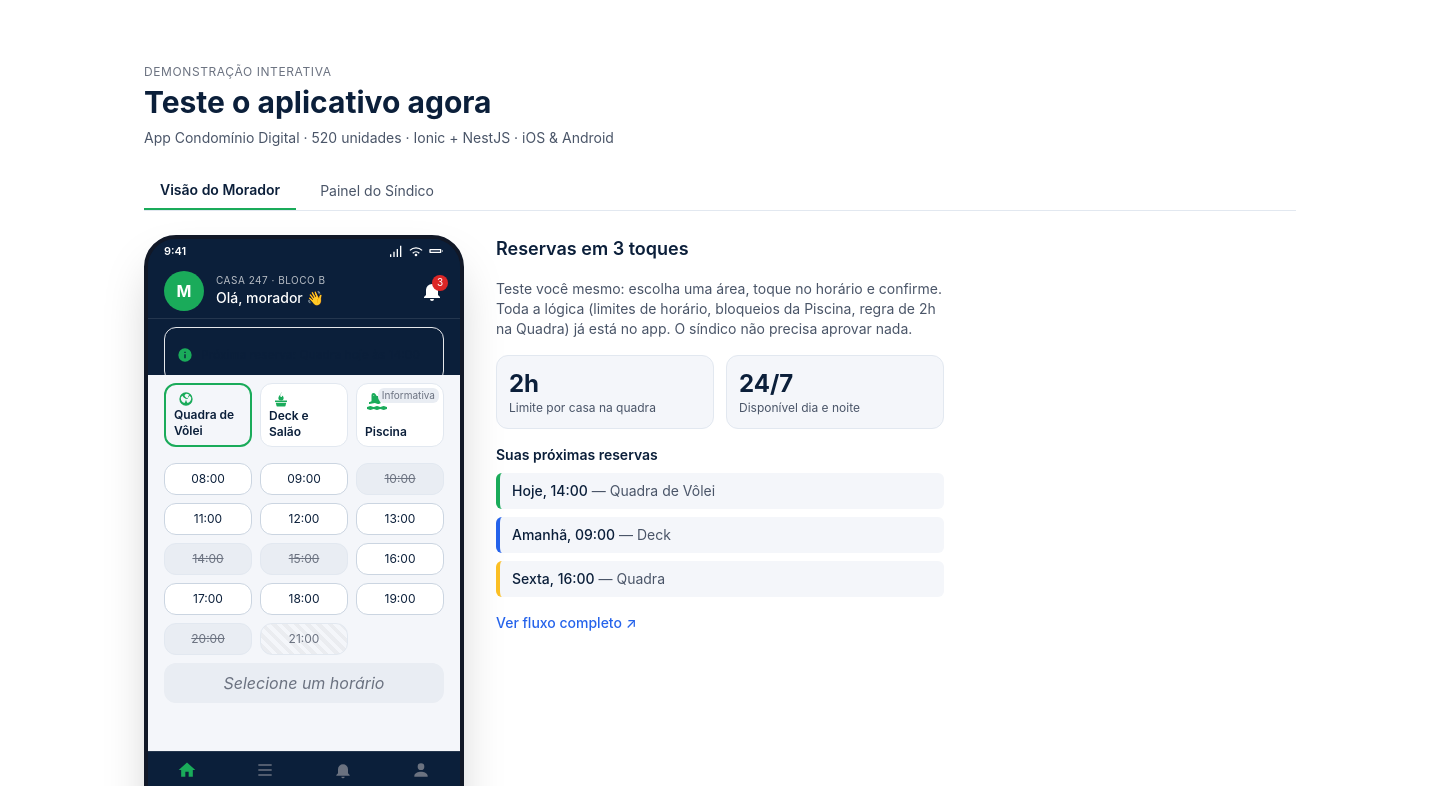
it: DemoTabs — interação › clicar na tab "Painel do Síndico" muda para o painel do Síndico
Click the tab "Painel do Síndico" at [377, 191], box [304,172,450,210]
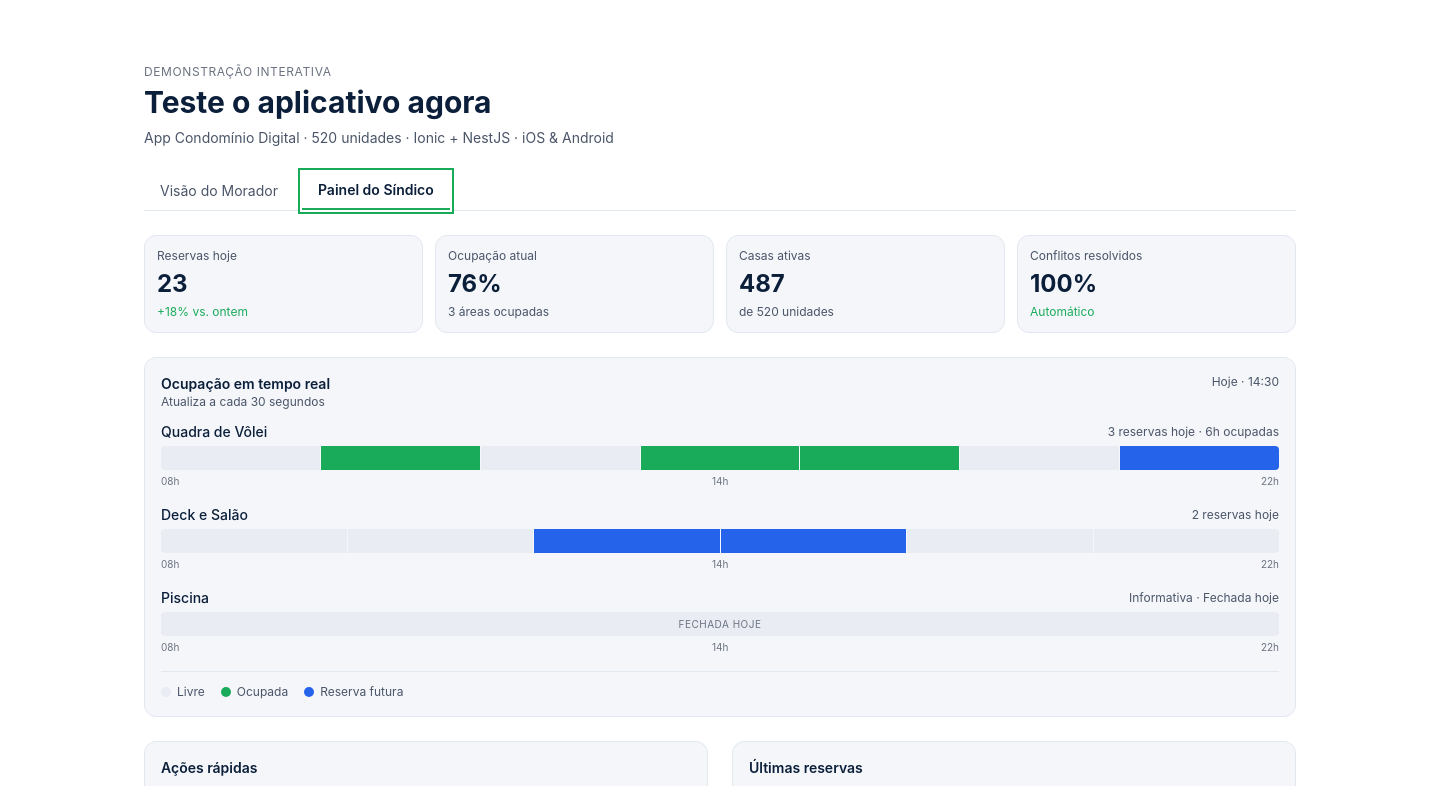
Expected: the text "Reservas hoje" is shown, [157,248,237,263]
Expected: the text "Casas ativas" is shown, [739,248,811,263]
